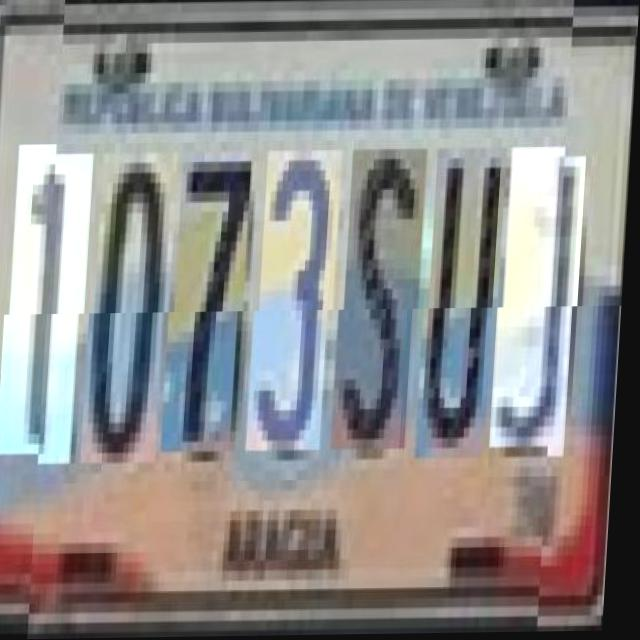1: (6, 154, 96, 465)
3: (256, 151, 345, 453)
7: (172, 152, 254, 454)
j: (500, 148, 589, 450)
o: (91, 153, 180, 464)
s: (341, 150, 430, 452)
u: (426, 149, 509, 460)
